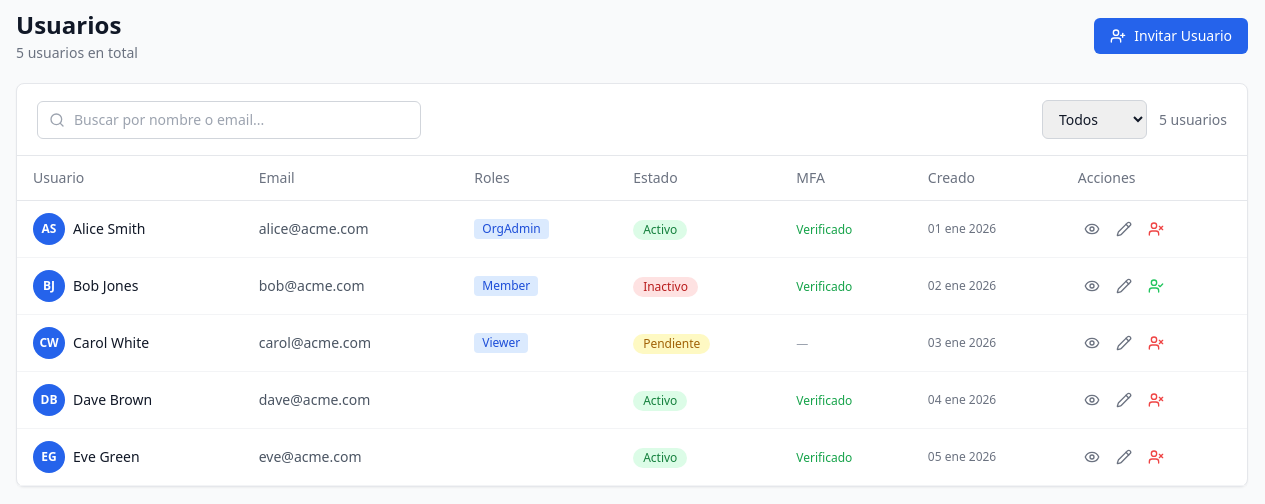
Scenario: UsersPage › search filter narrows displayed rows
In the field with placeholder "Buscar por nombre o email...": (229, 120) [37,100,421,138], type "alice"
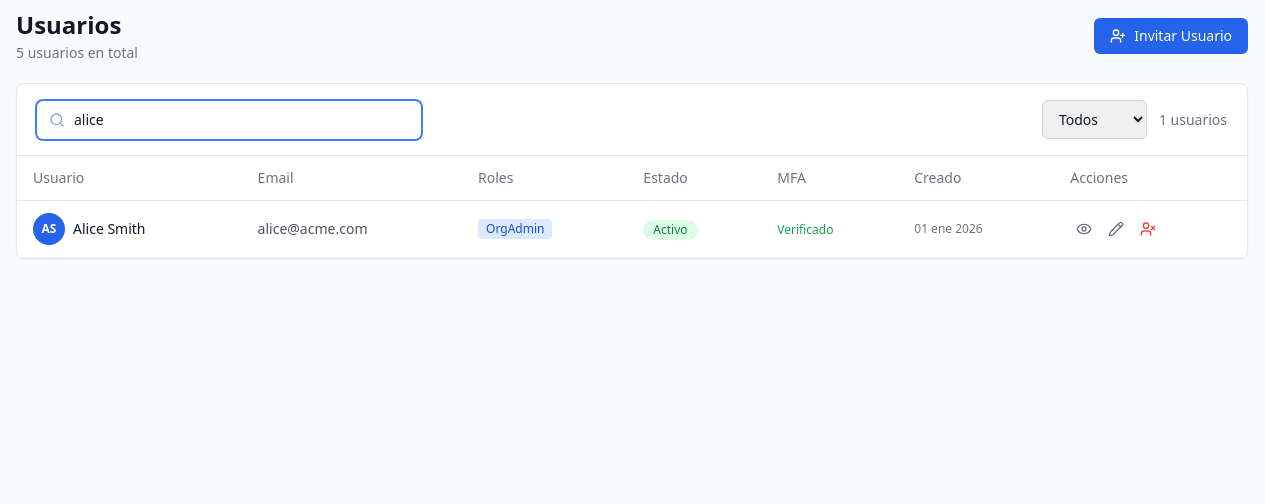
Expected: the text "Alice Smith" is shown, [73,219,146,239]
Now the text "Bob Jones" is gone
Now the text "Dave Brown" is gone
